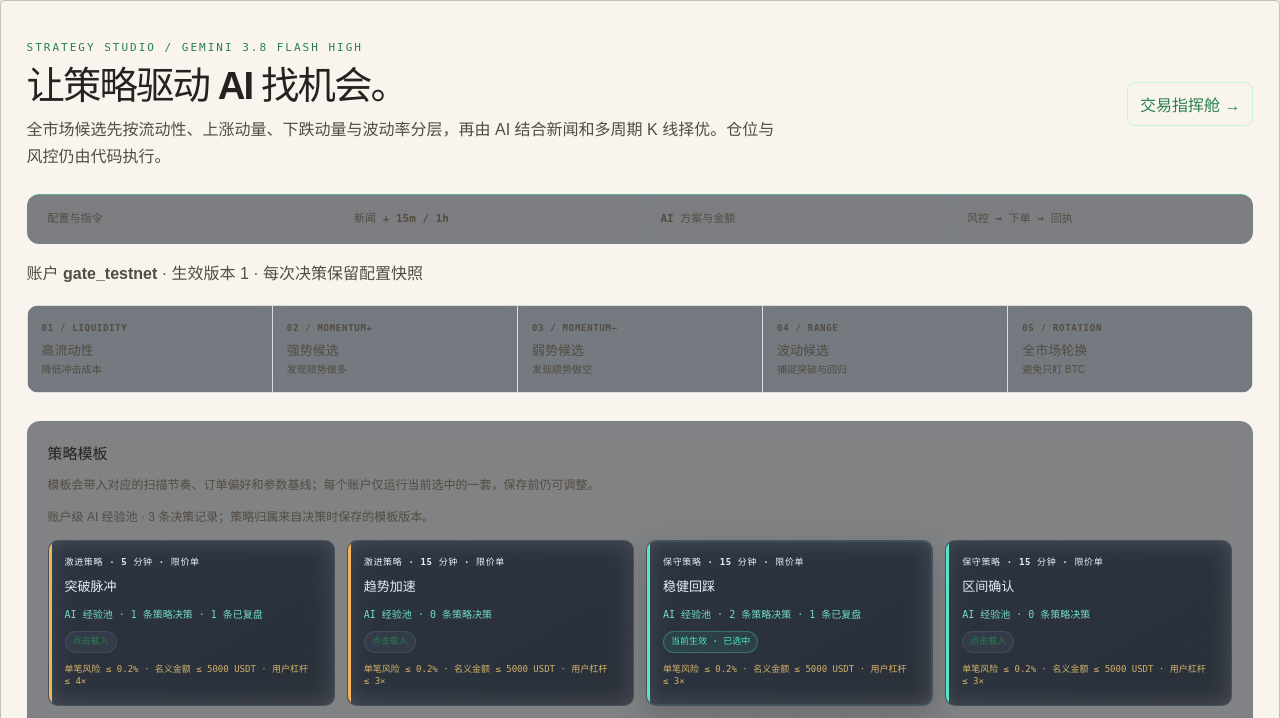
it: labels account-wide memories honestly and distinguishes active from unsaved strategy drafts
The image size is (1280, 718).
Expected: the text "账户级 AI 经验池 · 3 条决策记录；策略归属来自决策时保存的模板版本。" is shown, [48,510,434,524]
Expected: the text "模板会带入对应的扫描节奏、订单偏好和参数基线；每个账户仅运行当前选中的一套，保存前仍可调整。" is shown, [48,478,600,492]
Click the button "突破脉冲" at point(84, 562), box [48,540,335,706]
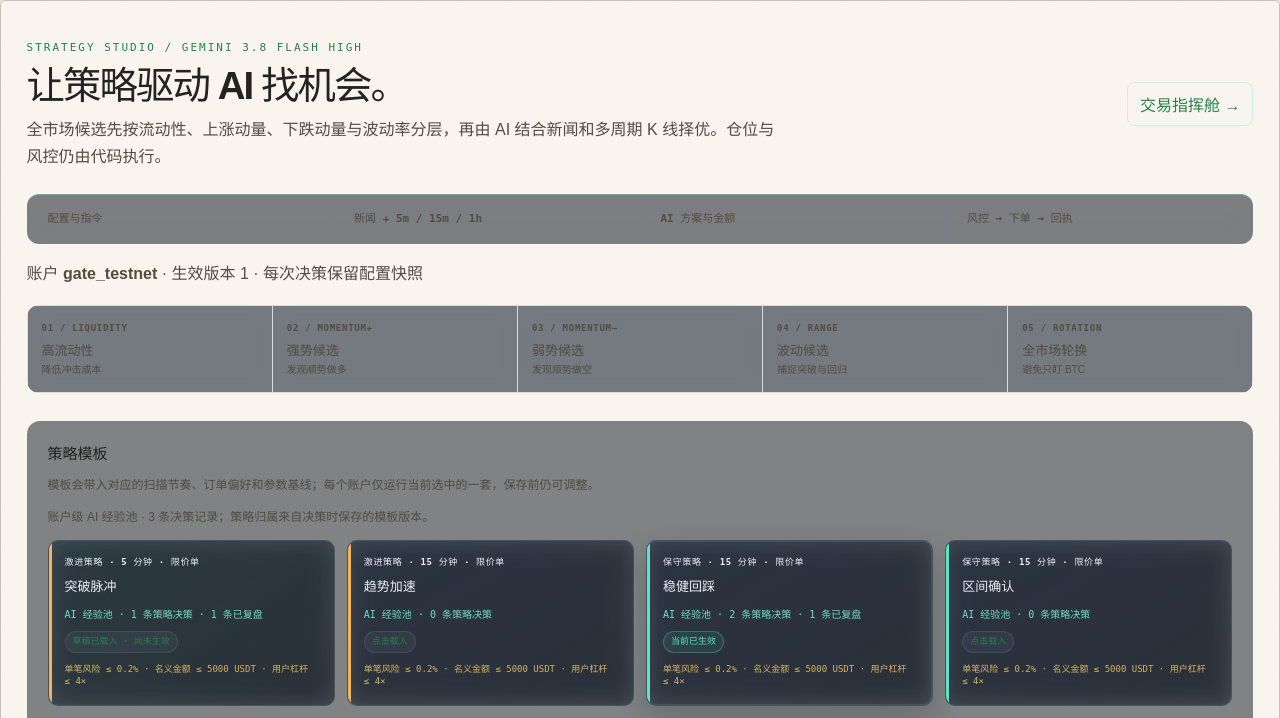
Expected: the button "突破脉冲" shows "草稿已载入 · 尚未生效", [48,540,335,706]
